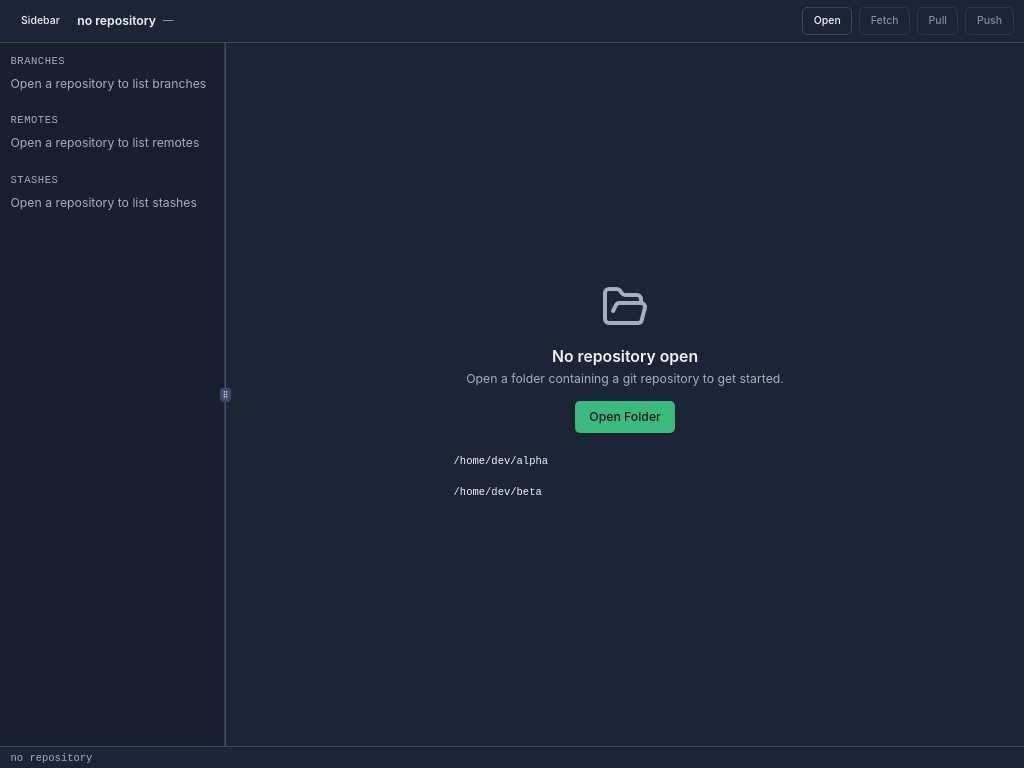
Test case: App shell › lists recent repos and reopens one with a click
Expected: the list with test id "recent-repos" shows "/home/dev/alpha", [443,446,807,474]
Click the button "/home/dev/beta" at (498, 492), box [443,478,807,506]
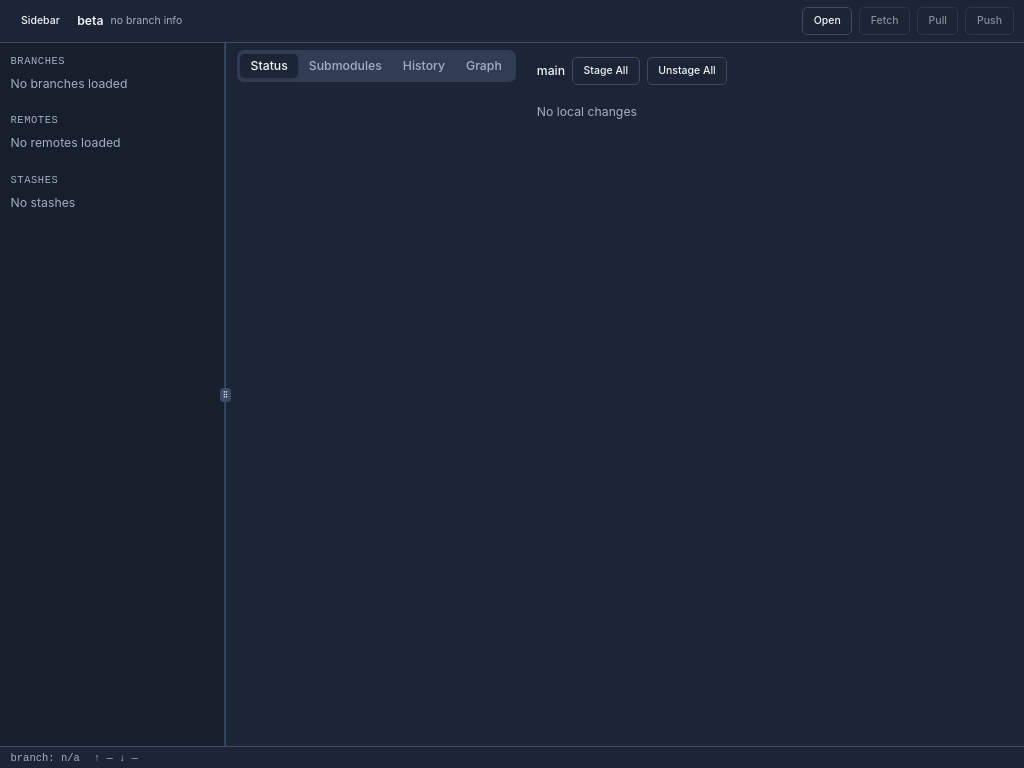
Expected: the element with test id "staging-view" is shown, [537,57,727,118]
